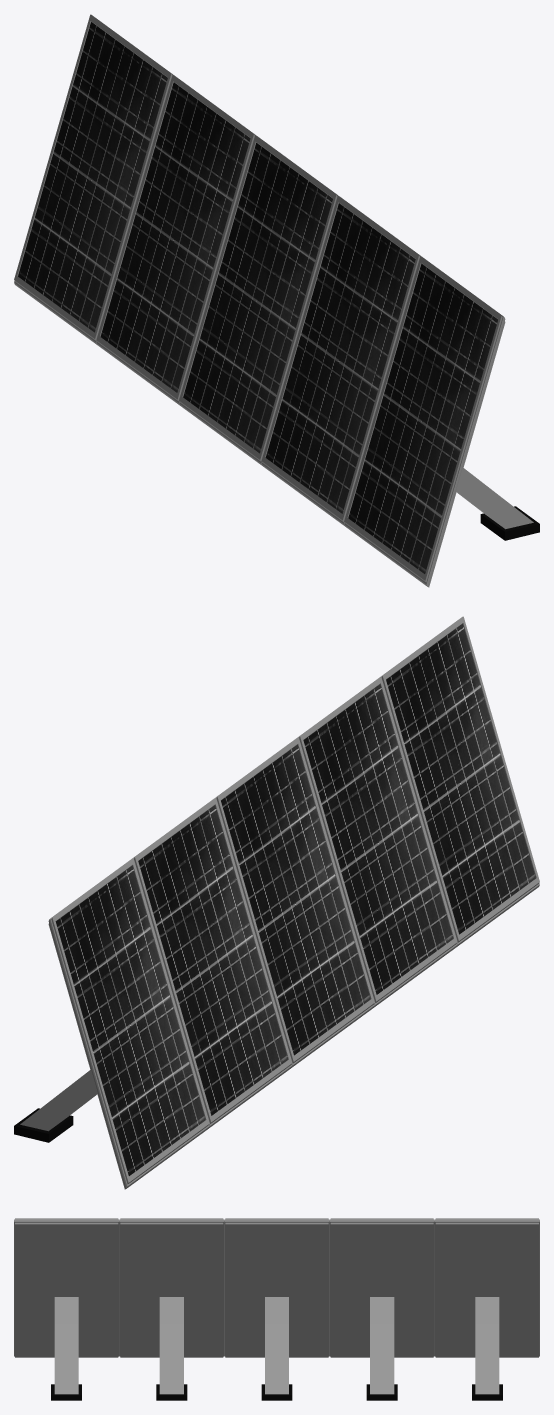
The model's file is groundPanelM90.glb.
3 views of the same model, one above another, from view 1: azimuth 30°, elevation 25°; view 2: azimuth 150°, elevation 25°; view 3: azimuth 270°, elevation 25° (orthographic). The views are drawn at different scales.
Visible parts, largest first — view 1: objSolar.005, objSolar.003, objSolar.004, objSolar.002, objSolar.001; view 2: objSolar.001, objSolar.003, objSolar.002, objSolar.004, objSolar.005; view 3: objSolar.002, objSolar.004, objSolar.001, objSolar.005, objSolar.003.
Part boxes in pixels (x1,y1,x2,y2): objSolar.005: (344,256,539,587); objSolar.003: (179,135,338,465); objSolar.004: (262,196,421,526); objSolar.002: (96,75,255,405); objSolar.001: (14,14,173,344); objSolar.001: (14,858,209,1189); objSolar.003: (215,737,374,1067); objSolar.002: (132,798,291,1128); objSolar.004: (298,677,457,1007); objSolar.005: (380,616,539,946); objSolar.002: (329,1218,434,1400); objSolar.004: (119,1218,224,1400); objSolar.001: (434,1218,539,1400); objSolar.005: (14,1218,119,1400); objSolar.003: (224,1218,329,1400).
Size of the model in its own units: 1 by 1.7 by 5.
Materials: 6 (2 with a texture image).
